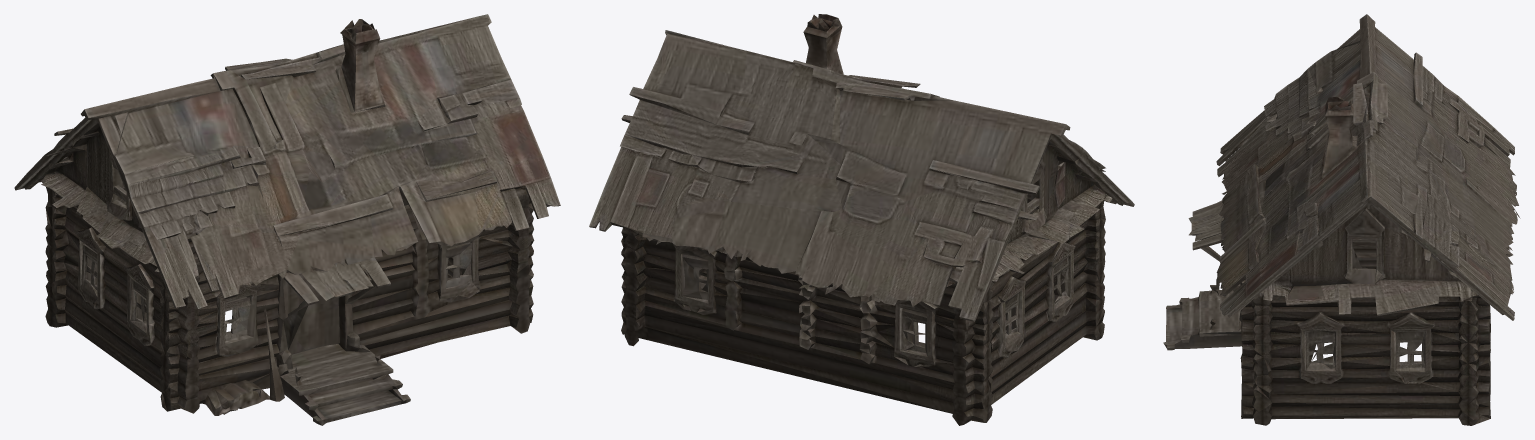
File: House-v1.glb
3 views of the same model, side by side, from view 1: azimuth 30°, elevation 25°; view 2: azimuth 150°, elevation 25°; view 3: azimuth 270°, elevation 25° (orthographic). The views are drawn at different scales.
Parts seen in each view (by area): view 1: output_unwrapped; view 2: output_unwrapped; view 3: output_unwrapped.
Boxes of the visible parts, left/top/right/bottom form: output_unwrapped: left=14, top=14, right=560, bottom=425; output_unwrapped: left=589, top=14, right=1134, bottom=425; output_unwrapped: left=1163, top=14, right=1520, bottom=425.
Size of the model in its own units: 1.9 by 1.3 by 1.55.
Materials: 1 (1 with a texture image).
